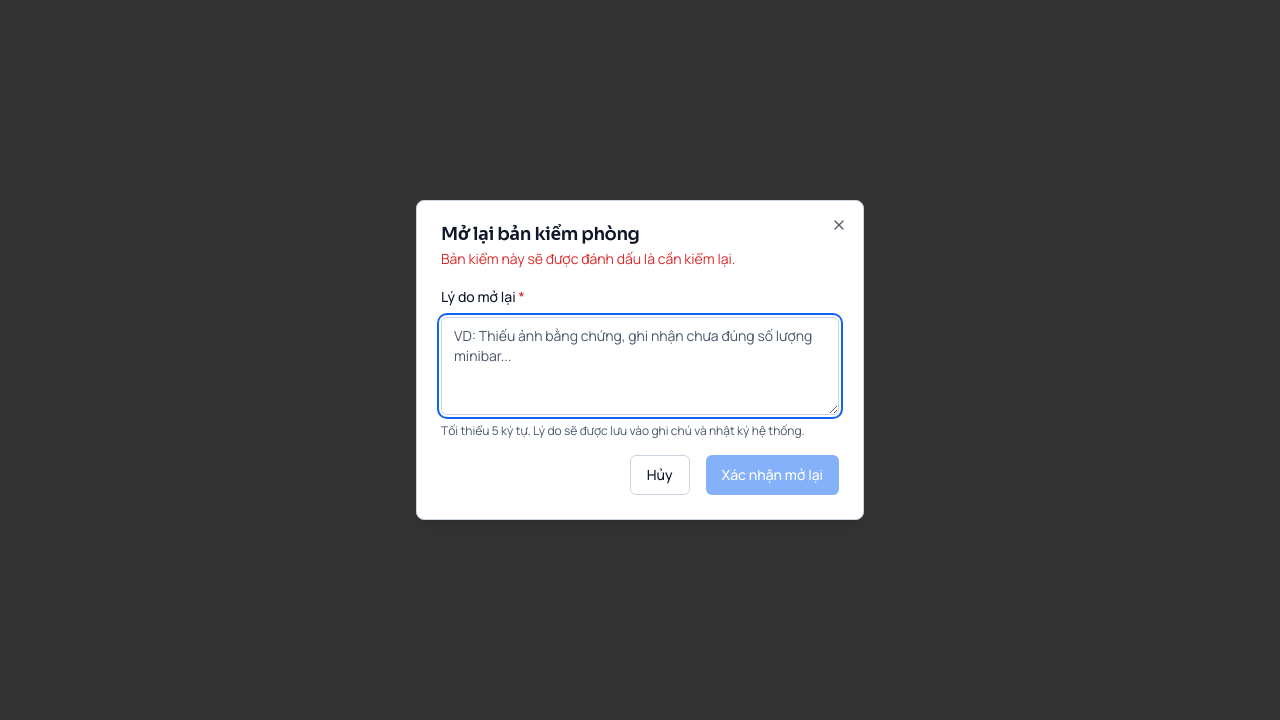
Test: ReopenCheckDialog › disable nút xác nhận khi lý do dưới 5 ký tự
This screenshot has width=1280, height=720.
Expected: the button "Xác nhận mở lại" is disabled, left=706, top=455, right=839, bottom=495
Replace the text in the text box labelled "Lý do mở lại *" with "abc": (640, 366) left=441, top=317, right=839, bottom=415
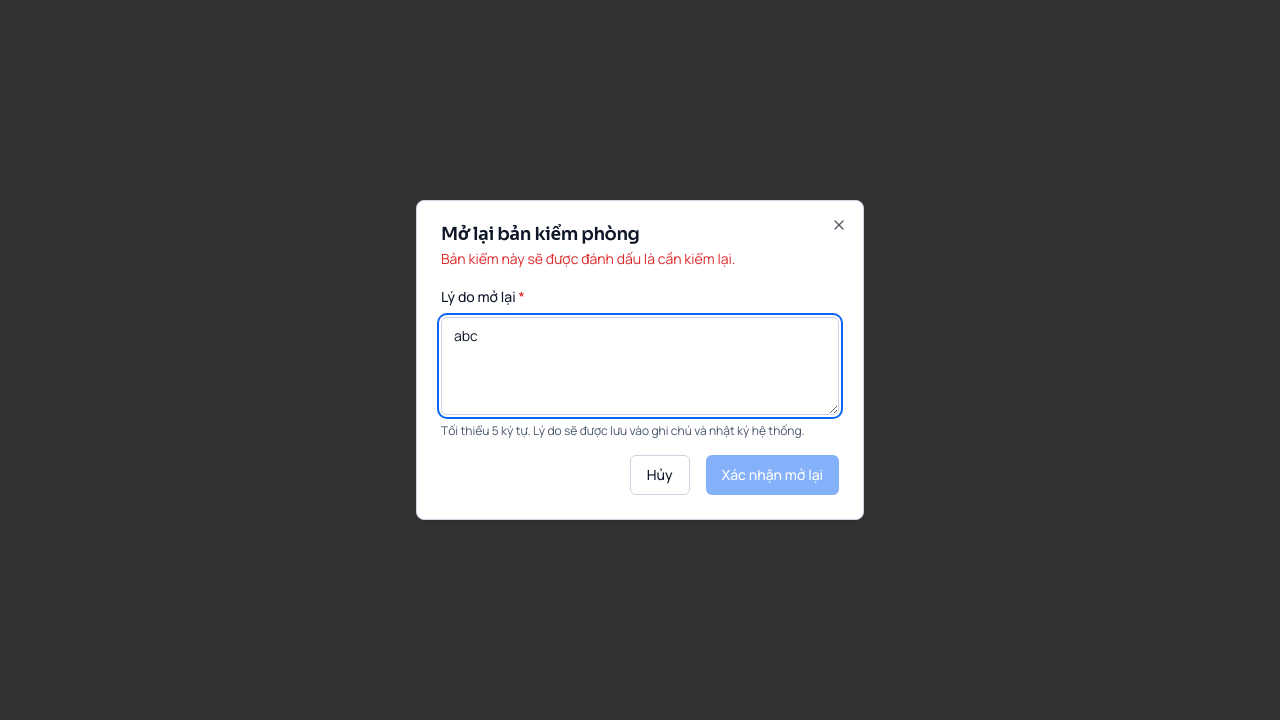
Expected: the button "Xác nhận mở lại" is disabled, left=706, top=455, right=839, bottom=495
Replace the text in the text box labelled "Lý do mở lại *" with "thiếu ảnh": (640, 366) left=441, top=317, right=839, bottom=415
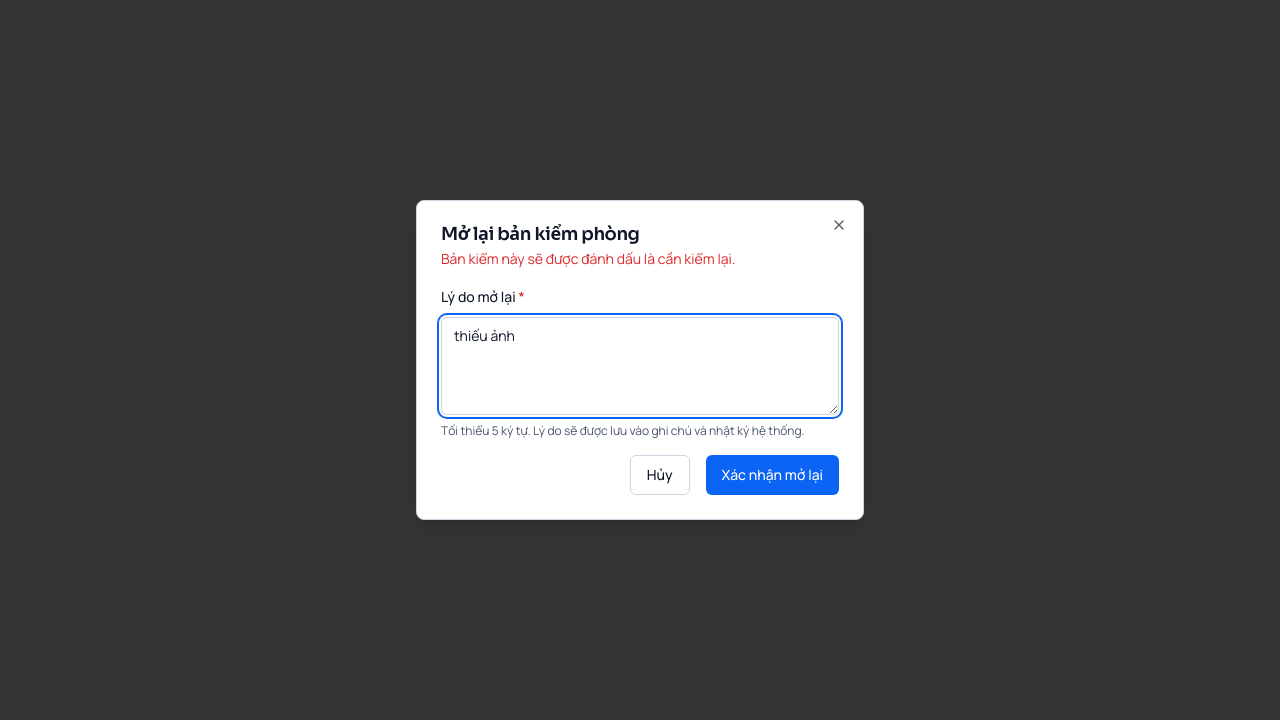
Expected: the button "Xác nhận mở lại" is enabled, left=706, top=455, right=839, bottom=495
